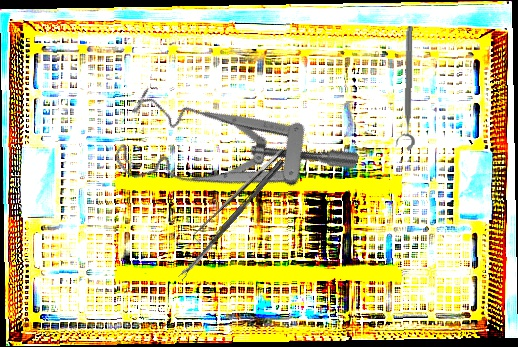Fixation Ring: (394, 25, 417, 151)
Hook Surgical: (187, 146, 292, 246)
Speculum: (104, 48, 361, 269)
Surgical Spoon: (177, 158, 285, 281)
